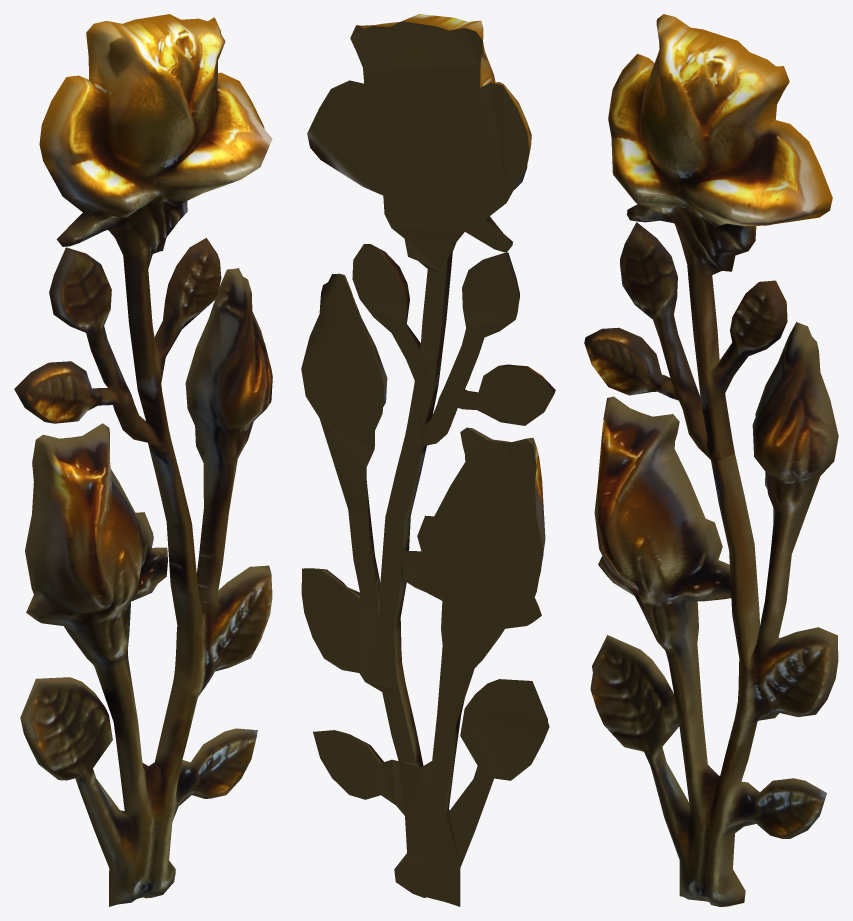
Rendered from Art1881.fbx.
3 views of the same model, side by side, from view 1: azimuth 30°, elevation 25°; view 2: azimuth 150°, elevation 25°; view 3: azimuth 330°, elevation 25° (orthographic).
Parts seen in each view (by area): view 1: Mesh_2; view 2: Mesh_2; view 3: Mesh_2.
Part boxes in pixels (x1,y1,x2,y2): Mesh_2: (14, 14, 272, 906); Mesh_2: (301, 14, 555, 906); Mesh_2: (584, 14, 838, 906).
Bounding box in the file's own units: 6.12 × 20.29 × 1.55.
Materials: 1 (1 with a texture image).
